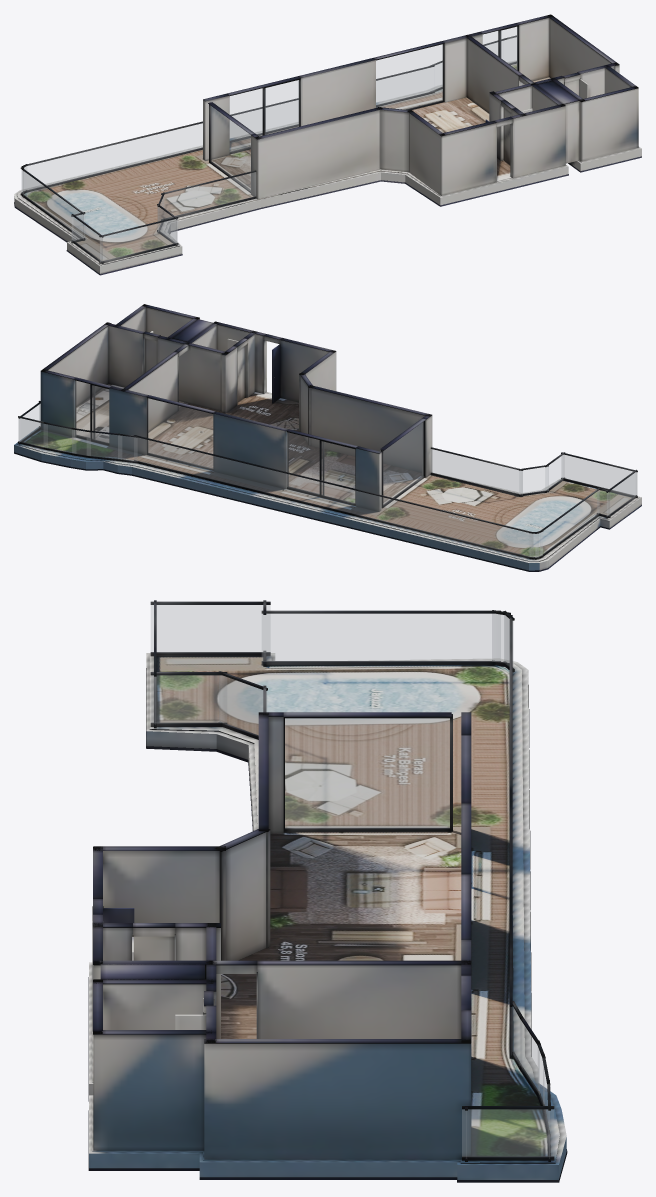
The picture shows the model from 3 angles, top to bottom: view 1: azimuth 30°, elevation 25°; view 2: azimuth 150°, elevation 25°; view 3: azimuth 270°, elevation 25°; orthographic projection. The views are drawn at different scales.
Parts seen in each view (by area): view 1: plan, railg2_m, glass2_m, glass1_m, glass0_m, railg5_m, railg6_m, railg14_m, glass3_m, railg15_m, railg13_m; view 2: plan, railg2_m, glass1_m, glass2_m, glass0_m, railg5_m, railg6_m, glass3_m, railg14_m, railg8_m, railg10_m, railg16_m (+6 smaller); view 3: plan, glass0_m, railg14_m, railg15_m, railg12_m, railg13_m, railg16_m, railg8_m, railg0_m.
Part boxes in pixels (box(x1,y1,x2,y2)): plan: box(14, 14, 641, 275); railg2_m: box(24, 67, 433, 190); glass2_m: box(376, 44, 442, 109); glass1_m: box(230, 80, 298, 151); glass0_m: box(210, 106, 250, 190); railg5_m: box(161, 172, 255, 218); railg6_m: box(100, 219, 177, 261); railg14_m: box(22, 170, 83, 238); glass3_m: box(483, 27, 517, 69); railg15_m: box(72, 217, 102, 261); railg13_m: box(157, 207, 176, 243); plan: box(14, 304, 641, 571); railg2_m: box(134, 438, 533, 557); glass1_m: box(287, 432, 354, 502); glass2_m: box(148, 398, 212, 468); glass0_m: box(383, 422, 423, 504); railg5_m: box(431, 449, 522, 494); railg6_m: box(562, 455, 637, 495); glass3_m: box(75, 381, 108, 442); railg14_m: box(540, 490, 599, 556); railg8_m: box(87, 432, 121, 458); railg10_m: box(44, 424, 75, 453); railg16_m: box(519, 466, 548, 494); plan: box(88, 600, 567, 1182); glass0_m: box(285, 718, 449, 828); railg14_m: box(262, 614, 500, 661); railg15_m: box(151, 605, 270, 652); railg12_m: box(462, 1109, 553, 1156); railg13_m: box(151, 675, 226, 722); railg16_m: box(219, 676, 266, 735); railg8_m: box(520, 1019, 539, 1093); railg0_m: box(492, 614, 508, 662).
Size of the model in its own units: 21.31 by 2.62 by 8.41.
Materials: 2 (1 with a texture image).
